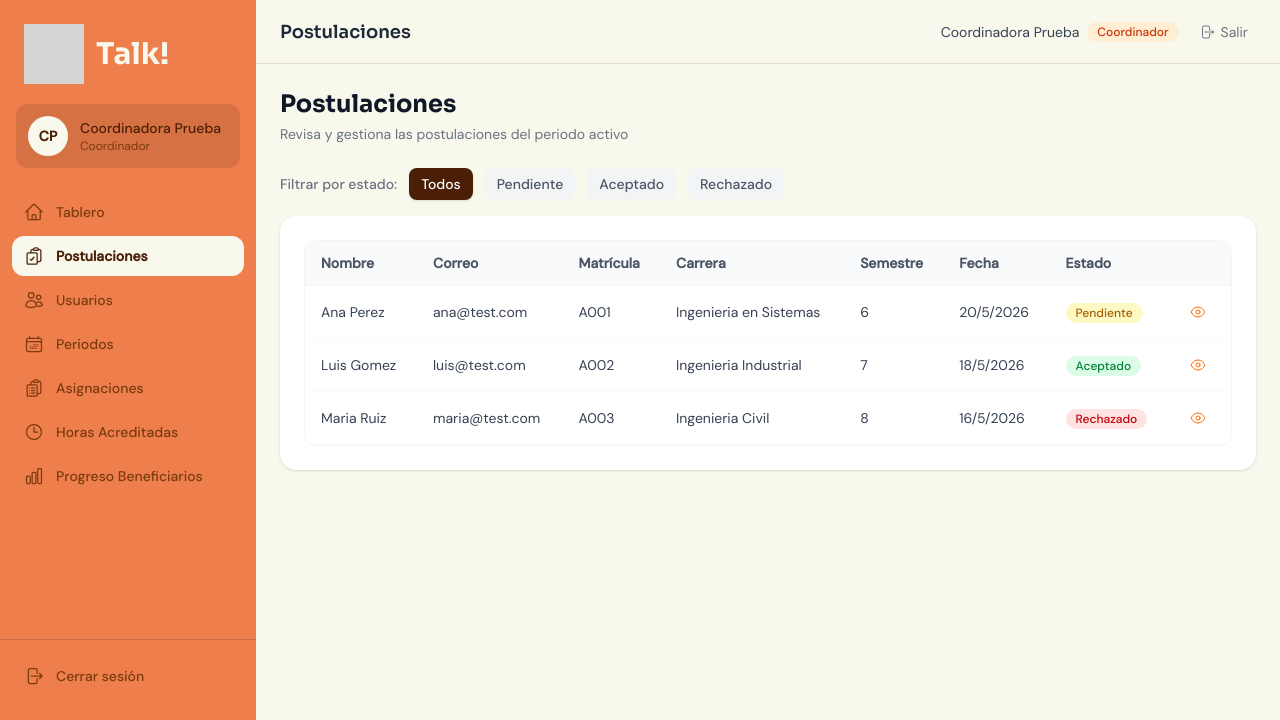
Test: Postulaciones › filters postulaciones by estado pendiente
The image size is (1280, 720).
Click the button "Pendiente". click: (531, 184)
box: x1=485 y1=168 x2=576 y2=200
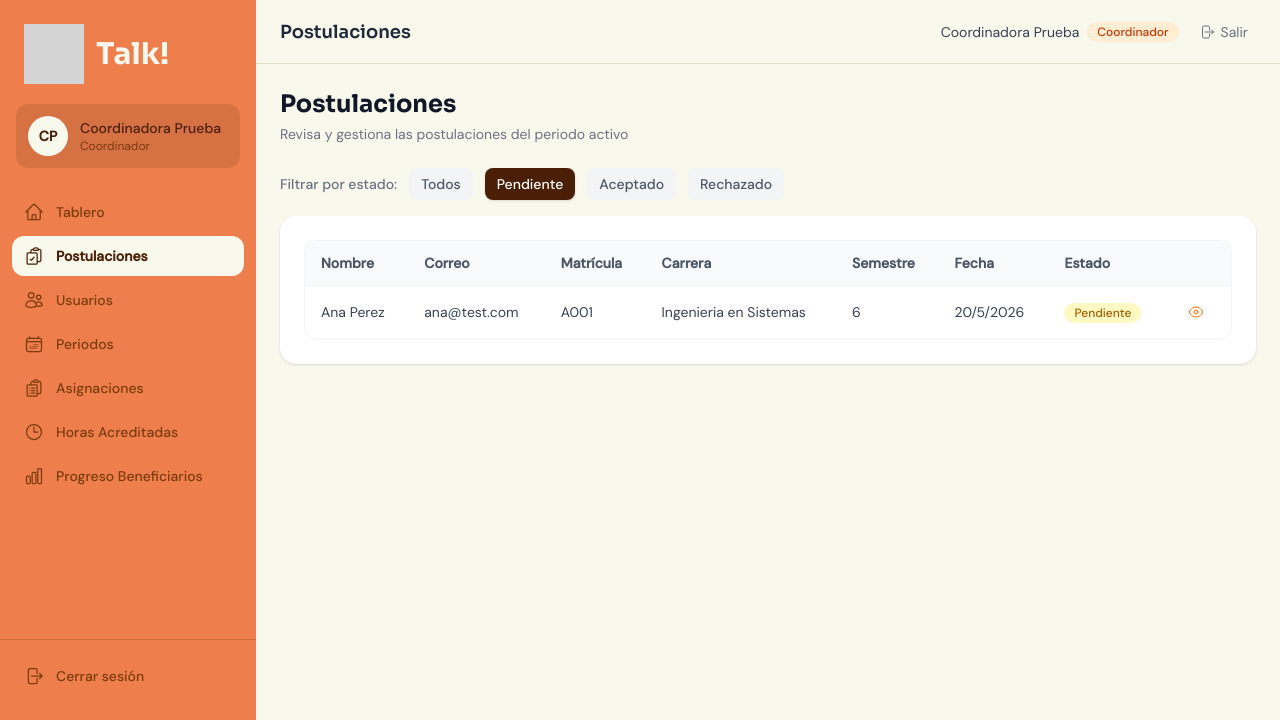
Expected: the text "Ana Perez" is shown, x1=305 y1=286 x2=408 y2=338
Expected: the text "Luis Gomez" is gone
Expected: the text "Maria Ruiz" is gone
